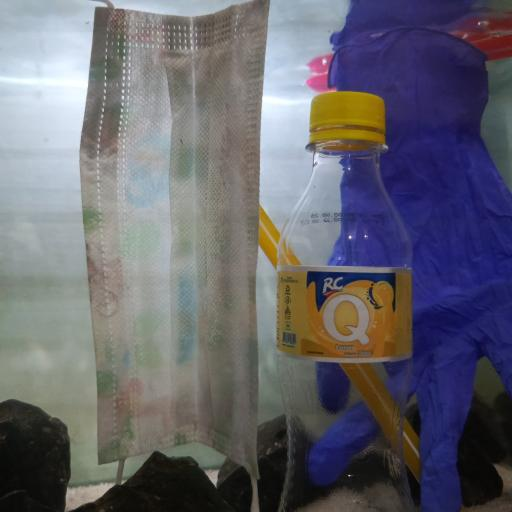bottle_cap: (309, 92, 386, 131)
glove: (306, 27, 512, 512)
mask: (83, 0, 270, 492)
plastic_bottle: (278, 92, 416, 512)
plastic_straw: (256, 203, 424, 481), (307, 34, 512, 93)
